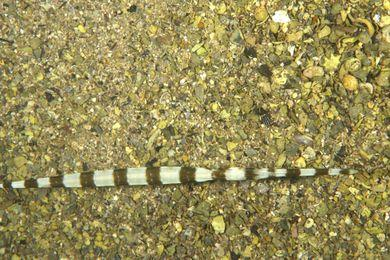Fistularia commersonii: (0, 160, 383, 202)
